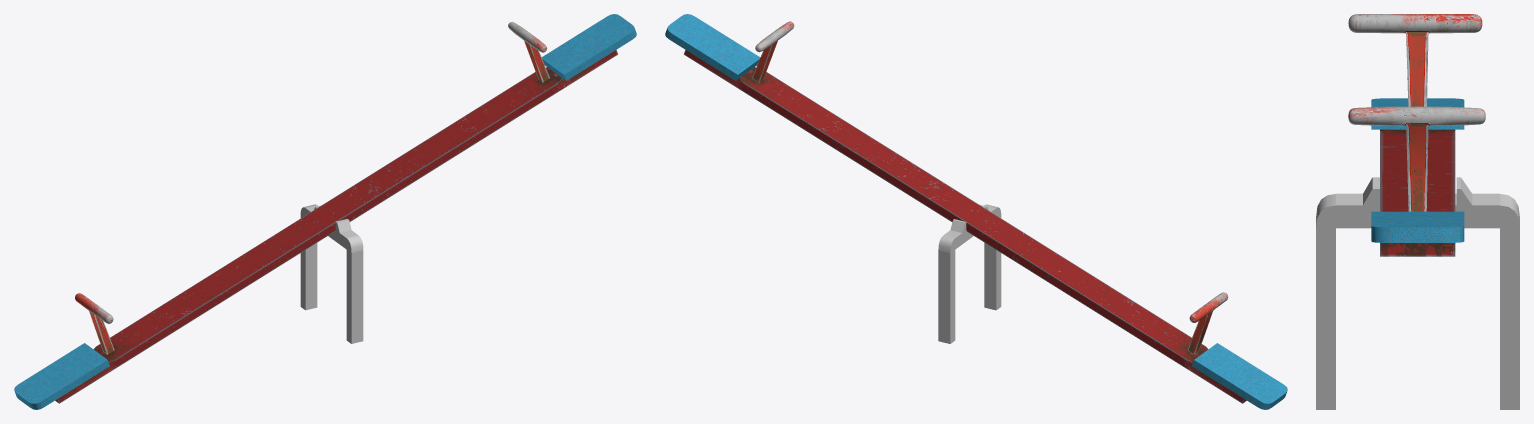
File: SeeSaw.fbx
The picture shows the model from 3 angles, left to right: view 1: azimuth 30°, elevation 25°; view 2: azimuth 150°, elevation 25°; view 3: azimuth 270°, elevation 25°; orthographic projection. The views are drawn at different scales.
Visible parts, largest first — view 1: Box021; view 2: Box021; view 3: Box021.
Part boxes in pixels (x1=…): Box021: x1=14, y1=14, x2=636, y2=409; Box021: x1=665, y1=14, x2=1287, y2=409; Box021: x1=1316, y1=14, x2=1519, y2=409.
Bounding box in the file's own units: 3.72 × 0.5419 × 1.46.
